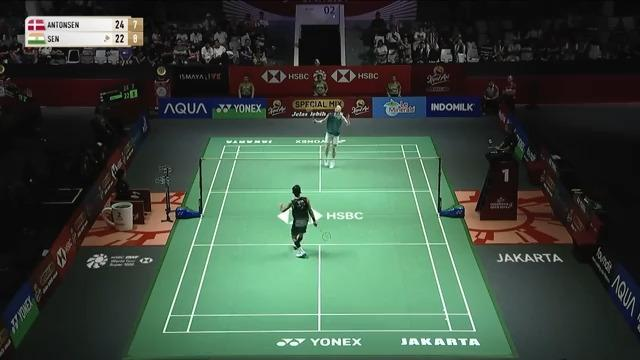Shuttlecock: (330, 10, 340, 22)
